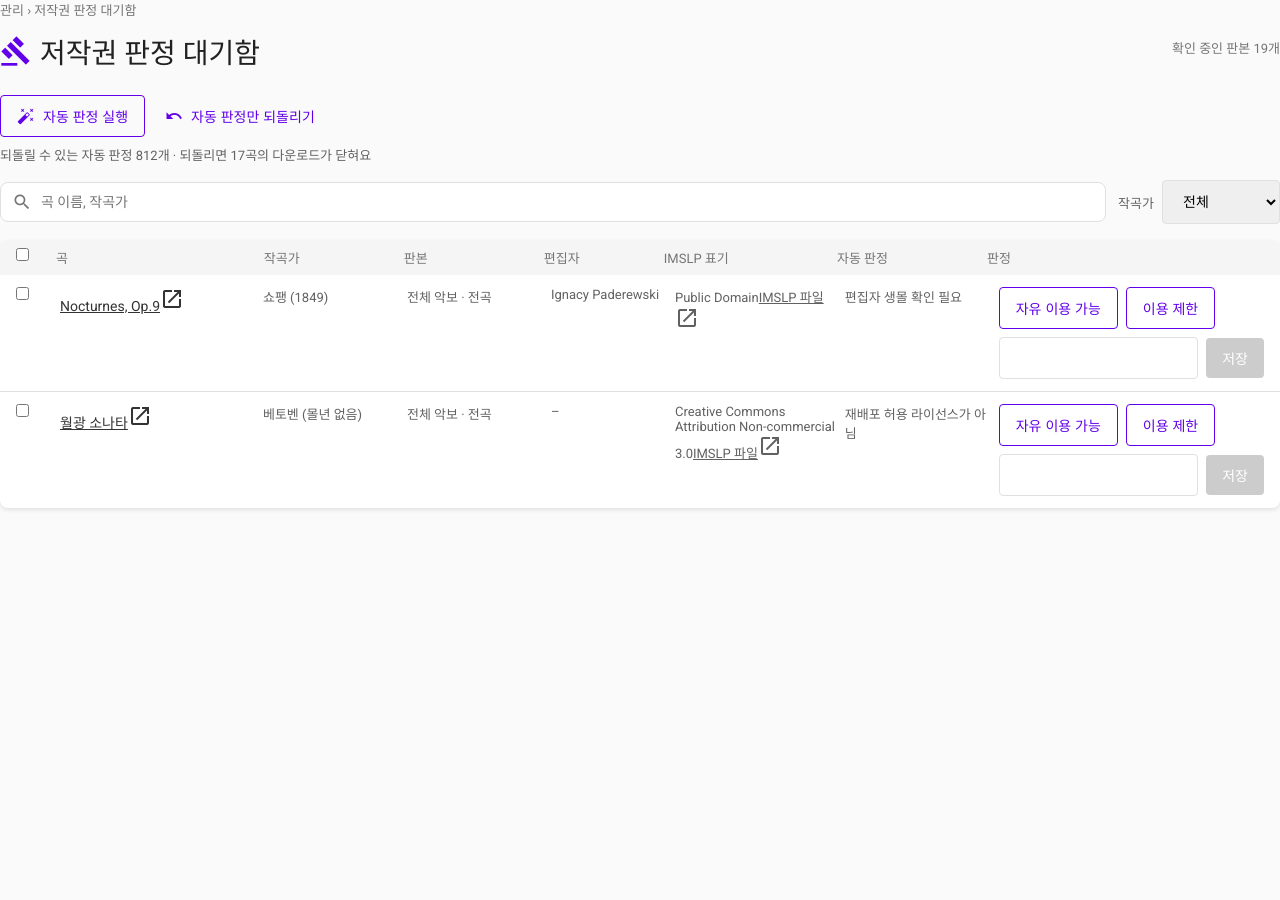
대기함 — 되돌린 직후의 창 (02 §5-8-1 화면 계약 2-1·2-2) › 되돌린 직후에는 옛 잔량을 말하지 않는다 — 방금 되돌린 것을 '되돌릴 수 있다' 고 하지 않는다
Click the button "자동 판정만 되돌리기" at point(240, 116), box x1=153 y1=98 x2=327 y2=134
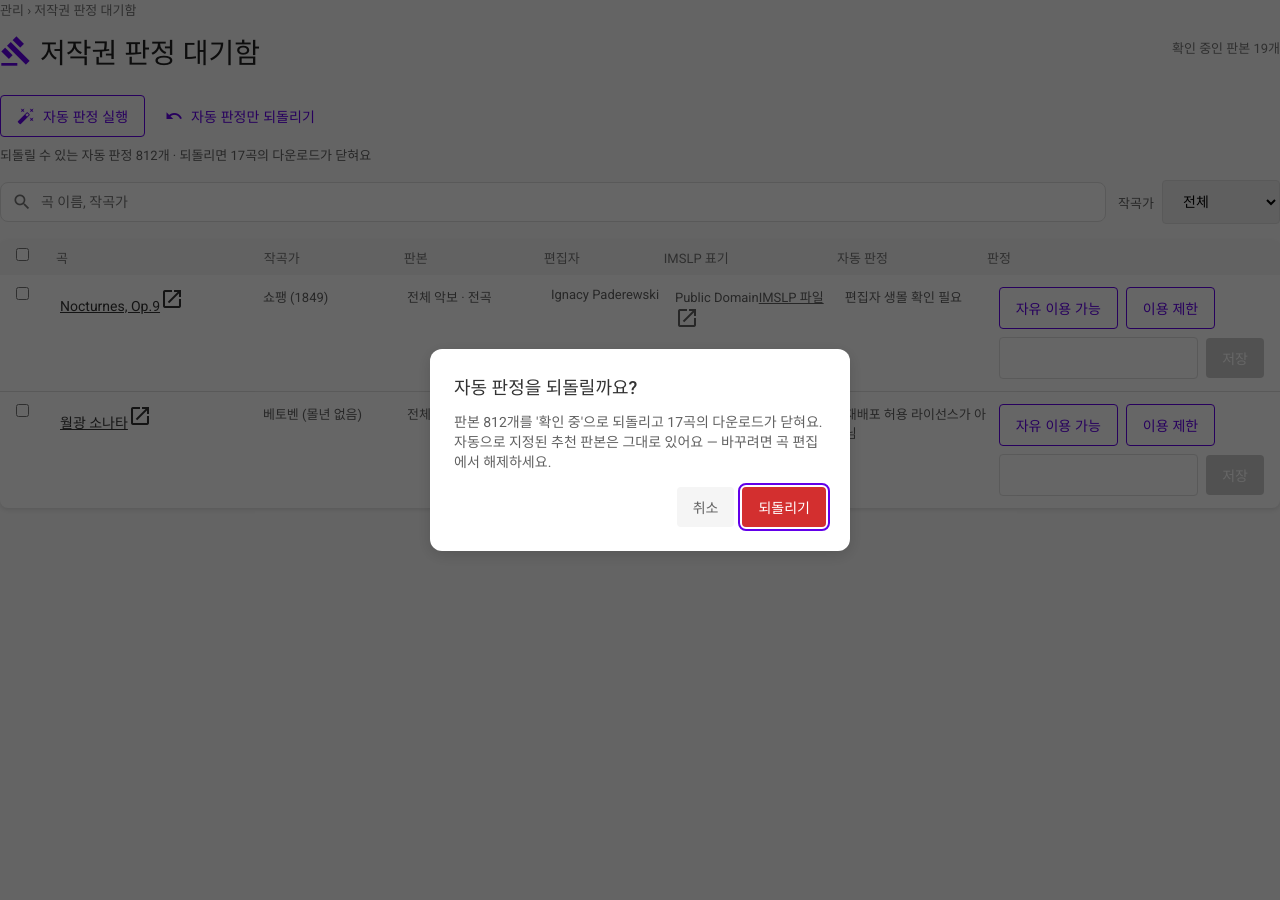
Click the button "되돌리기" at point(784, 507), box x1=742 y1=487 x2=826 y2=527
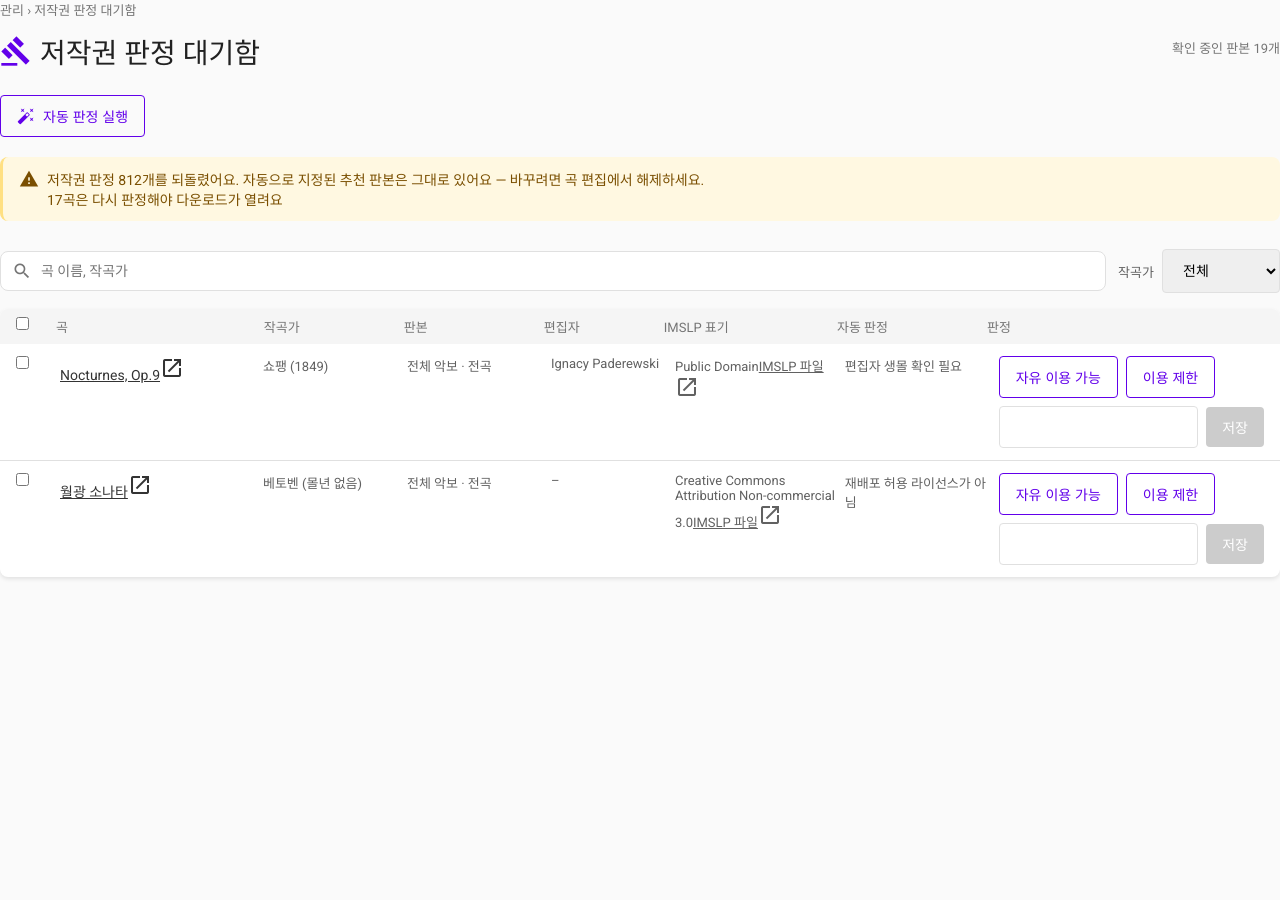
expect the text "저작권 판정 812개를 되돌렸어요" is shown: met, box x1=47 y1=172 x2=704 y2=188
expect the text "되돌릴 수 있는 자동 판정 812개" is gone: met
expect the button "자동 판정만 되돌리기" is gone: met
